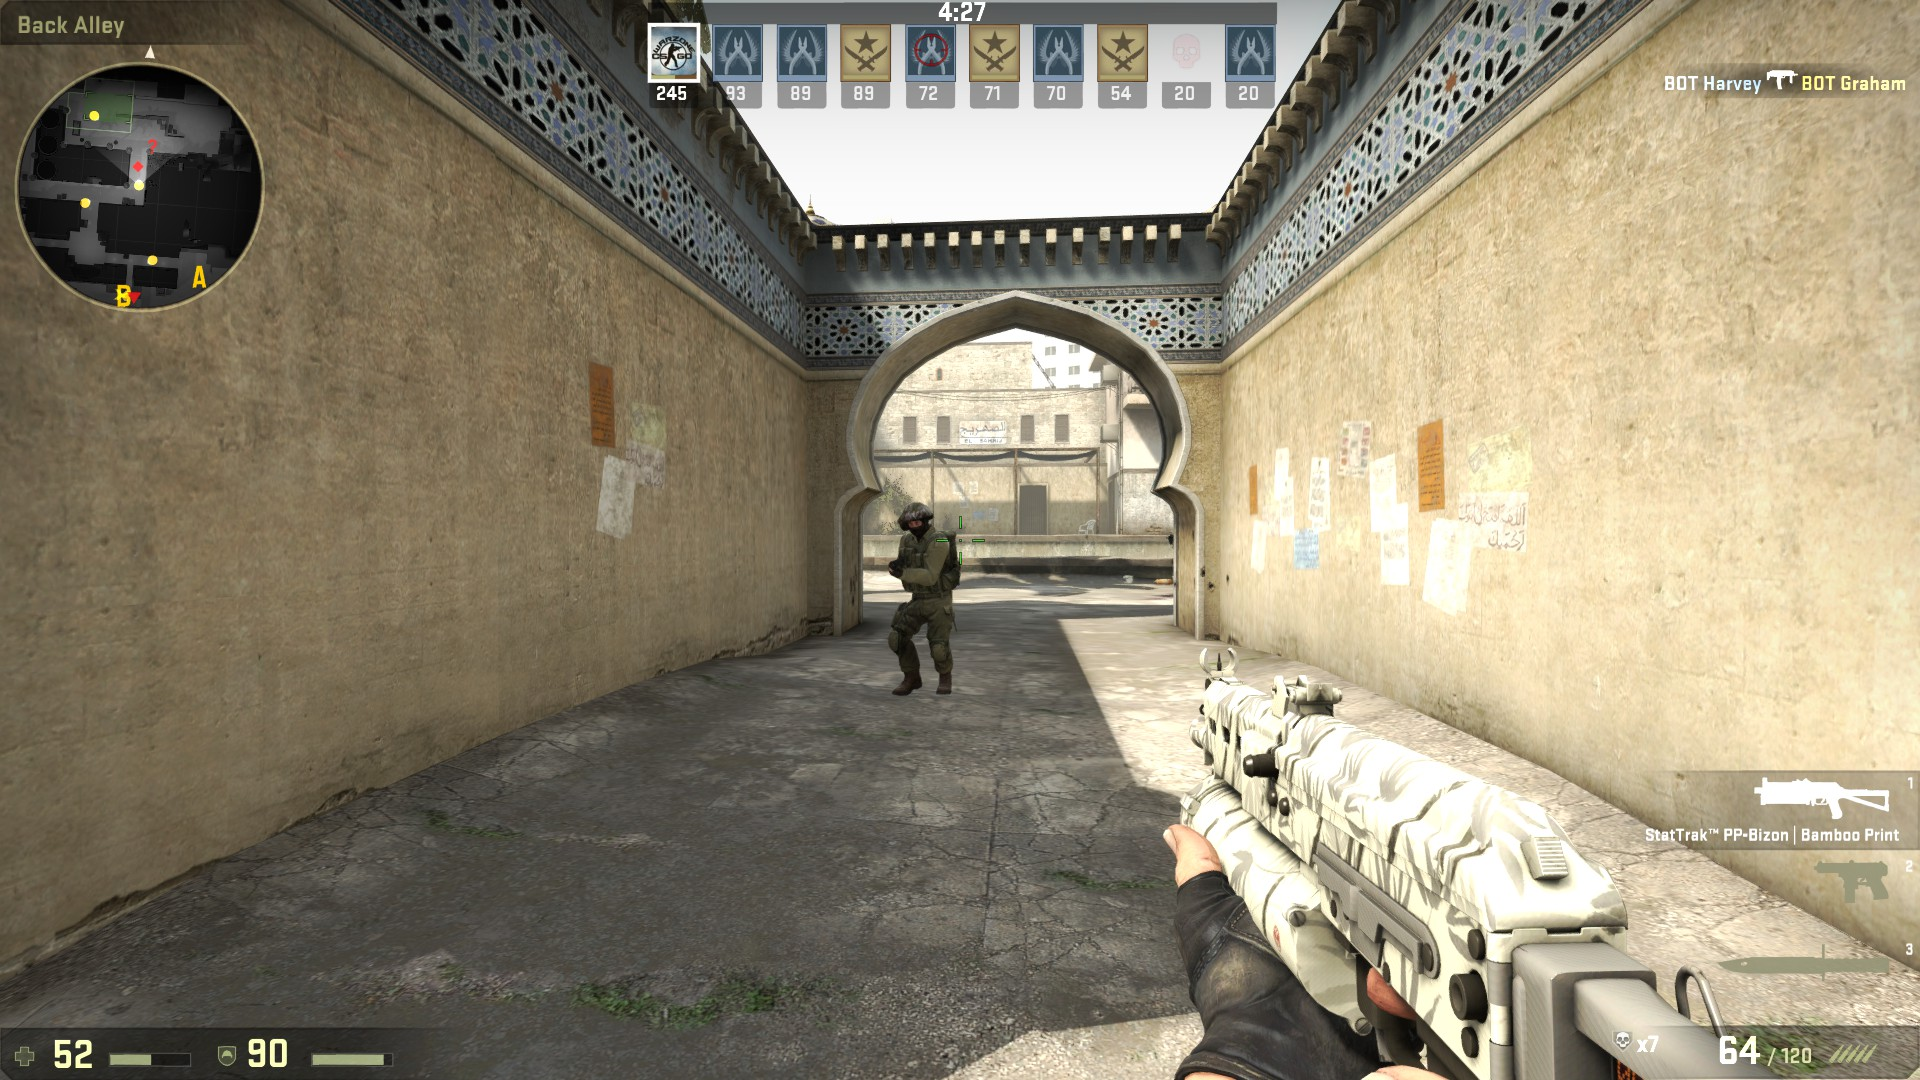c: (886, 502, 963, 698)
ch: (895, 498, 935, 541)
